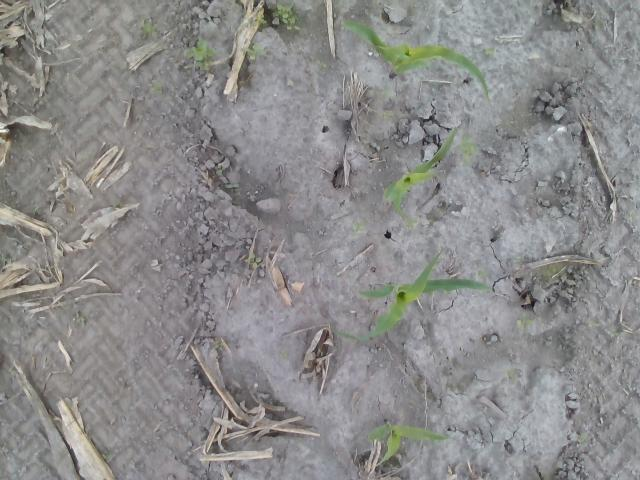Maize: (336, 248, 492, 342), (338, 19, 491, 99), (382, 126, 456, 217), (367, 418, 452, 469)
Weeds: (184, 40, 216, 72), (272, 2, 301, 31), (457, 134, 478, 164), (243, 43, 267, 60), (138, 19, 158, 38), (402, 214, 420, 230), (518, 312, 534, 330), (244, 254, 262, 267), (148, 80, 164, 92), (252, 14, 268, 26), (351, 222, 367, 234), (475, 268, 487, 281), (101, 450, 114, 460), (504, 368, 515, 379), (380, 90, 392, 100), (606, 329, 620, 337), (216, 164, 226, 175), (0, 256, 12, 265), (629, 212, 639, 222), (76, 315, 86, 325), (214, 341, 224, 350), (279, 350, 288, 360), (316, 60, 327, 68), (112, 200, 124, 207), (82, 151, 92, 159), (486, 46, 496, 54), (594, 20, 601, 31), (588, 320, 599, 326), (514, 256, 522, 263), (578, 434, 585, 442), (226, 184, 240, 188)
